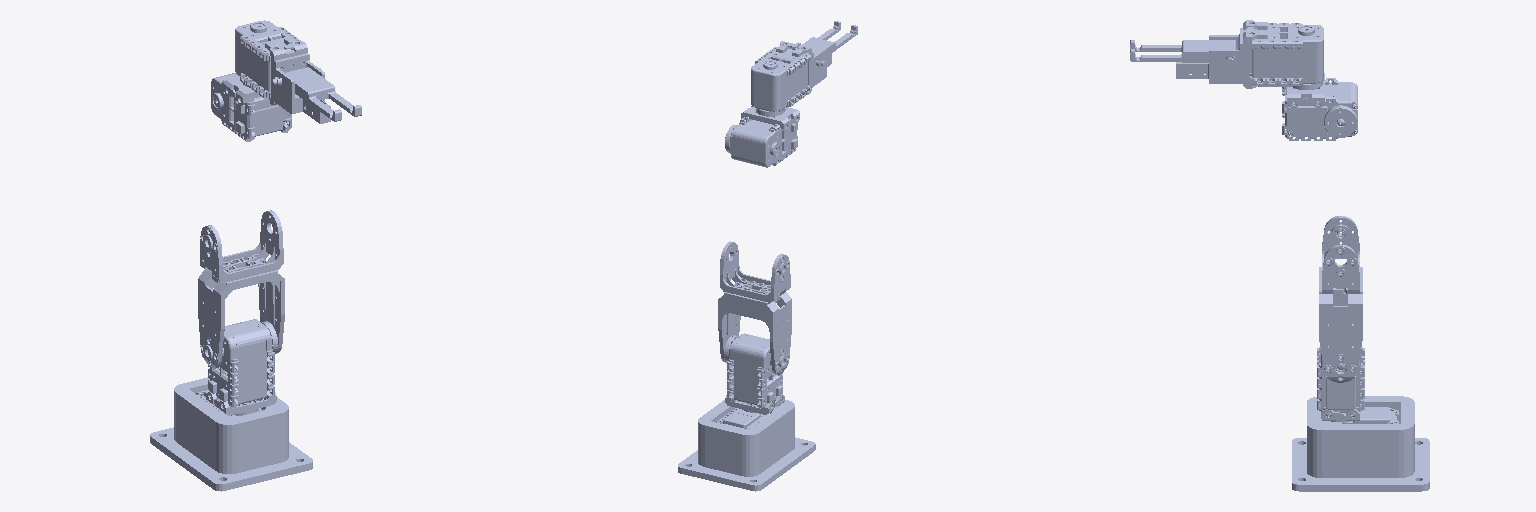
URDF robot description (robot_arm_jj_v4):
<?xml version="1.0" encoding="utf-8"?>
<!-- This URDF was automatically created by SolidWorks to URDF Exporter! Originally created by [author] ([email redacted]) 
     Commit Version: 1.6.0-4-g7f85cfe  Build Version: 1.6.7995.38578
     For more information, please see http://wiki.ros.org/sw_urdf_exporter -->
<robot
  name="robot_arm_jj_v4">
  <link
    name="base_link">
    <inertial>
      <origin
        xyz="2.63906858121947E-07 0.0123548014896462 0.0180317042798397"
        rpy="0 0 0" />
      <mass
        value="0.145711251346503" />
      <inertia
        ixx="8.89769342658515E-05"
        ixy="-7.51213869489288E-10"
        ixz="-1.26120262751118E-09"
        iyy="6.08855228440413E-05"
        iyz="3.4524251535453E-07"
        izz="0.000109831670457128" />
    </inertial>
    <visual>
      <origin
        xyz="0 0 0"
        rpy="0 0 0" />
      <geometry>
        <mesh
          filename="package://robot_arm_jj_v4/meshes/base_link.STL" />
      </geometry>
      <material
        name="">
        <color
          rgba="0.792156862745098 0.819607843137255 0.933333333333333 1" />
      </material>
    </visual>
    <collision>
      <origin
        xyz="0 0 0"
        rpy="0 0 0" />
      <geometry>
        <mesh
          filename="package://robot_arm_jj_v4/meshes/base_link.STL" />
      </geometry>
    </collision>
  </link>
  <link
    name="link_1">
    <inertial>
      <origin
        xyz="0.000941265209741439 -2.05725101131475E-06 0.0268715106739904"
        rpy="0 0 0" />
      <mass
        value="0.0460049636465042" />
      <inertia
        ixx="1.01749219185809E-05"
        ixy="1.26107333601568E-09"
        ixz="1.96531067765913E-07"
        iyy="1.19487278016208E-05"
        iyz="-6.23099772368389E-10"
        izz="6.92576650304568E-06" />
    </inertial>
    <visual>
      <origin
        xyz="0 0 0"
        rpy="0 0 0" />
      <geometry>
        <mesh
          filename="package://robot_arm_jj_v4/meshes/link_1.STL" />
      </geometry>
      <material
        name="">
        <color
          rgba="0.792156862745098 0.819607843137255 0.933333333333333 1" />
      </material>
    </visual>
    <collision>
      <origin
        xyz="0 0 0"
        rpy="0 0 0" />
      <geometry>
        <mesh
          filename="package://robot_arm_jj_v4/meshes/link_1.STL" />
      </geometry>
    </collision>
  </link>
  <joint
    name="joint_1"
    type="revolute">
    <origin
      xyz="0 0 0.04188"
      rpy="0 0 0" />
    <parent
      link="base_link" />
    <child
      link="link_1" />
    <axis
      xyz="0 0 -1" />
    <limit
      lower="-2.16"
      upper="2.16"
      effort="1.5"
      velocity="3.08" />
  </joint>
  <link
    name="link_2">
    <inertial>
      <origin
        xyz="-0.00020674 0.00036306 0.042749"
        rpy="0 0 0" />
      <mass
        value="0.021327" />
      <inertia
        ixx="6.4724E-06"
        ixy="-8.8958E-12"
        ixz="2.2787E-11"
        iyy="1.2466E-05"
        iyz="-7.9921E-08"
        izz="8.893E-06" />
    </inertial>
    <visual>
      <origin
        xyz="0 0 0"
        rpy="0 0 0" />
      <geometry>
        <mesh
          filename="package://robot_arm_jj_v4/meshes/link_2.STL" />
      </geometry>
      <material
        name="">
        <color
          rgba="0.79216 0.81961 0.93333 1" />
      </material>
    </visual>
    <collision>
      <origin
        xyz="0 0 0"
        rpy="0 0 0" />
      <geometry>
        <mesh
          filename="package://robot_arm_jj_v4/meshes/link_2.STL" />
      </geometry>
    </collision>
  </link>
  <joint
    name="joint_2"
    type="revolute">
    <origin
      xyz="-0.00055 0 0.0415"
      rpy="0 0 0" />
    <parent
      link="link_1" />
    <child
      link="link_2" />
    <axis
      xyz="-1 0 0" />
    <limit
      lower="-2.16"
      upper="2.16"
      effort="1.5"
      velocity="3.08" />
  </joint>
  <link
    name="link_3">
    <inertial>
      <origin
        xyz="0.00102928995198108 -1.21839792428321E-06 0.0297373962553241"
        rpy="0 0 0" />
      <mass
        value="0.0647095833170316" />
      <inertia
        ixx="1.28329399907313E-05"
        ixy="6.23266432613802E-13"
        ixz="-3.27231100223613E-08"
        iyy="1.613591036666E-05"
        iyz="9.86813823573687E-12"
        izz="1.06295802345988E-05" />
    </inertial>
    <visual>
      <origin
        xyz="0 0 0"
        rpy="0 0 0" />
      <geometry>
        <mesh
          filename="package://robot_arm_jj_v4/meshes/link_3.STL" />
      </geometry>
      <material
        name="">
        <color
          rgba="0.792156862745098 0.819607843137255 0.933333333333333 1" />
      </material>
    </visual>
    <collision>
      <origin
        xyz="0 0 0"
        rpy="0 0 0" />
      <geometry>
        <mesh
          filename="package://robot_arm_jj_v4/meshes/link_3.STL" />
      </geometry>
    </collision>
  </link>
  <joint
    name="joint_3"
    type="revolute">
    <origin
      xyz="0 0 0.078"
      rpy="0 0 0" />
    <parent
      link="link_2" />
    <child
      link="link_3" />
    <axis
      xyz="1 0 0" />
    <limit
      lower="-2.16"
      upper="2.16"
      effort="1.5"
      velocity="3.08" />
  </joint>
  <link
    name="link_4">
    <inertial>
      <origin
        xyz="0.0014758 -0.013313 0.001152"
        rpy="0 0 0" />
      <mass
        value="0.046211" />
      <inertia
        ixx="1.0173E-05"
        ixy="3.2723E-08"
        ixz="6.3531E-13"
        iyy="4.0373E-06"
        iyz="1.1825E-10"
        izz="9.3659E-06" />
    </inertial>
    <visual>
      <origin
        xyz="0 0 0"
        rpy="0 0 0" />
      <geometry>
        <mesh
          filename="package://robot_arm_jj_v4/meshes/link_4.STL" />
      </geometry>
      <material
        name="">
        <color
          rgba="0.79216 0.81961 0.93333 1" />
      </material>
    </visual>
    <collision>
      <origin
        xyz="0 0 0"
        rpy="0 0 0" />
      <geometry>
        <mesh
          filename="package://robot_arm_jj_v4/meshes/link_4.STL" />
      </geometry>
    </collision>
  </link>
  <joint
    name="joint_4"
    type="revolute">
    <origin
      xyz="-0.0002 0 0.099"
      rpy="0 0 0" />
    <parent
      link="link_3" />
    <child
      link="link_4" />
    <axis
      xyz="1 0 0" />
    <limit
      lower="-2.16"
      upper="2.16"
      effort="1.5"
      velocity="3.08" />
  </joint>
  <link
    name="link_5">
    <inertial>
      <origin
        xyz="-0.00042263 -0.025719 -0.00049055"
        rpy="0 0 0" />
      <mass
        value="0.061237" />
      <inertia
        ixx="1.2088E-05"
        ixy="-1.374E-10"
        ixz="-1.3197E-12"
        iyy="5.4197E-06"
        iyz="-2.2591E-07"
        izz="1.3437E-05" />
    </inertial>
    <visual>
      <origin
        xyz="0 0 0"
        rpy="0 0 0" />
      <geometry>
        <mesh
          filename="package://robot_arm_jj_v4/meshes/link_5.STL" />
      </geometry>
      <material
        name="">
        <color
          rgba="0.79216 0.81961 0.93333 1" />
      </material>
    </visual>
    <collision>
      <origin
        xyz="0 0 0"
        rpy="0 0 0" />
      <geometry>
        <mesh
          filename="package://robot_arm_jj_v4/meshes/link_5.STL" />
      </geometry>
    </collision>
  </link>
  <joint
    name="joint_5"
    type="revolute">
    <origin
      xyz="0.00075 -0.02275 0.0389"
      rpy="0 0 0" />
    <parent
      link="link_4" />
    <child
      link="link_5" />
    <axis
      xyz="0 0 -1" />
    <limit
      lower="-2.16"
      upper="2.16"
      effort="1.5"
      velocity="3.08" />
  </joint>
</robot>

--- What the picture shows (computed from the rendered views, not written in the file) ---
Views: 3 orthographic renders of the robot side by side, from view 1: azimuth 30°, elevation 25°; view 2: azimuth 150°, elevation 25°; view 3: azimuth 270°, elevation 25°.
Model robot_arm_jj_v4 with 6 links and 5 joints (5 revolute), rooted at base_link, posed all joints at 0.
Links seen in each view (by area): view 1: base_link, link_2, link_5, link_1, link_4; view 2: base_link, link_2, link_5, link_1, link_4; view 3: base_link, link_5, link_2, link_4, link_1.
Boxes of the visible links, left/top/right/bottom form: base_link: left=150, top=377, right=312, bottom=491; link_2: left=198, top=210, right=284, bottom=368; link_5: left=235, top=20, right=361, bottom=123; link_1: left=206, top=319, right=277, bottom=415; link_4: left=211, top=73, right=291, bottom=141; base_link: left=678, top=400, right=815, bottom=491; link_2: left=718, top=241, right=791, bottom=374; link_5: left=751, top=21, right=857, bottom=116; link_1: left=724, top=333, right=784, bottom=414; link_4: left=725, top=106, right=799, bottom=167; base_link: left=1292, top=396, right=1429, bottom=491; link_5: left=1130, top=20, right=1323, bottom=89; link_2: left=1319, top=216, right=1362, bottom=382; link_4: left=1282, top=73, right=1357, bottom=140; link_1: left=1317, top=347, right=1364, bottom=420.
Bounding box of the posed robot: 0.073 × 0.1972 × 0.3194 m (x, y, z).
5 mesh visuals loaded from 6 distinct referenced files (5 binary STL); not drawn: 1 (reference not matched to a file when rendering).